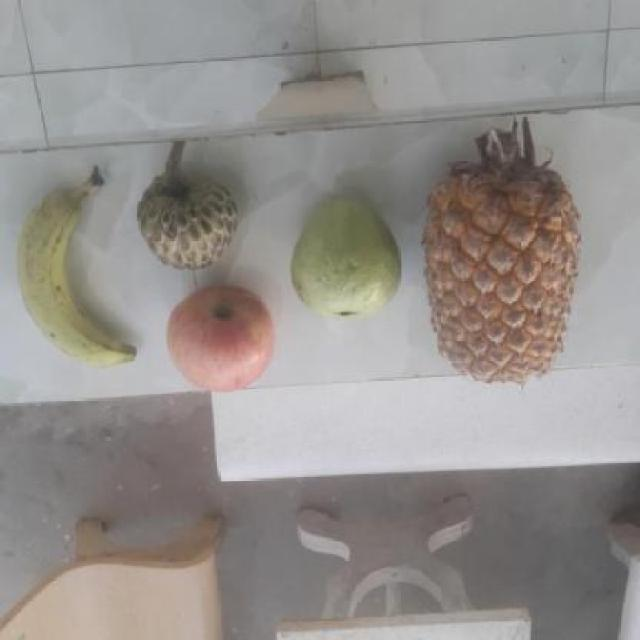apple: (162, 283, 280, 392)
banana: (21, 174, 144, 366)
guava: (296, 198, 406, 320)
pineapple: (424, 160, 582, 382)
sugar apple: (137, 157, 241, 269)
